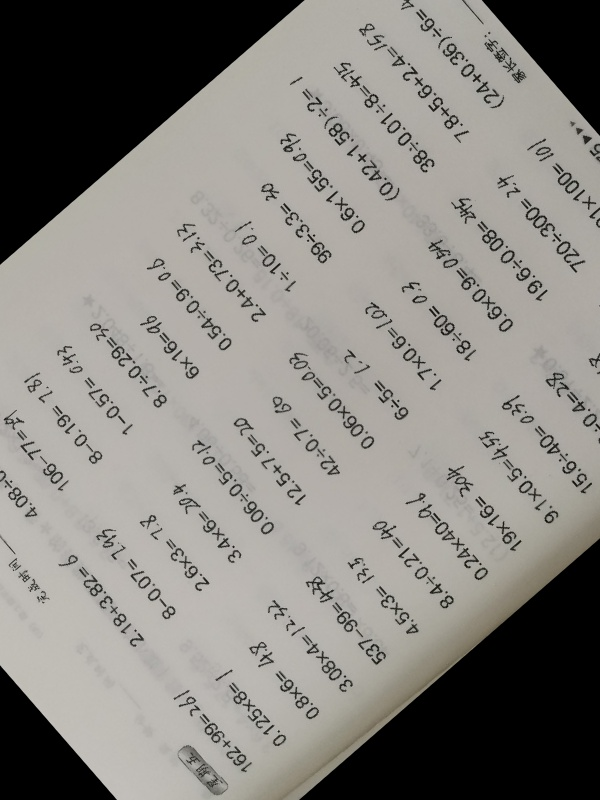equation: (290, 76, 399, 201), (384, 0, 503, 110), (361, 21, 468, 143), (335, 58, 434, 171), (452, 194, 547, 302), (176, 222, 264, 322), (279, 133, 367, 232), (504, 394, 592, 493), (497, 171, 584, 270), (288, 351, 375, 450), (191, 439, 275, 535), (428, 236, 512, 331), (268, 597, 351, 692), (149, 257, 231, 350), (478, 430, 559, 522), (63, 554, 144, 646), (374, 515, 455, 606), (98, 527, 179, 618), (23, 375, 103, 465), (307, 574, 386, 664), (530, 137, 600, 238), (54, 345, 133, 434), (364, 300, 442, 389), (409, 491, 487, 580), (89, 318, 166, 406), (446, 462, 523, 549), (231, 417, 307, 504), (175, 688, 251, 773), (402, 277, 475, 360), (268, 394, 341, 477), (259, 181, 331, 262), (347, 556, 419, 637), (170, 483, 241, 564), (248, 641, 319, 721), (340, 346, 409, 424), (1, 413, 70, 491), (218, 668, 286, 746), (141, 514, 209, 590), (231, 216, 297, 290), (548, 370, 600, 462), (0, 417, 38, 519), (142, 313, 200, 378), (589, 351, 600, 435)
